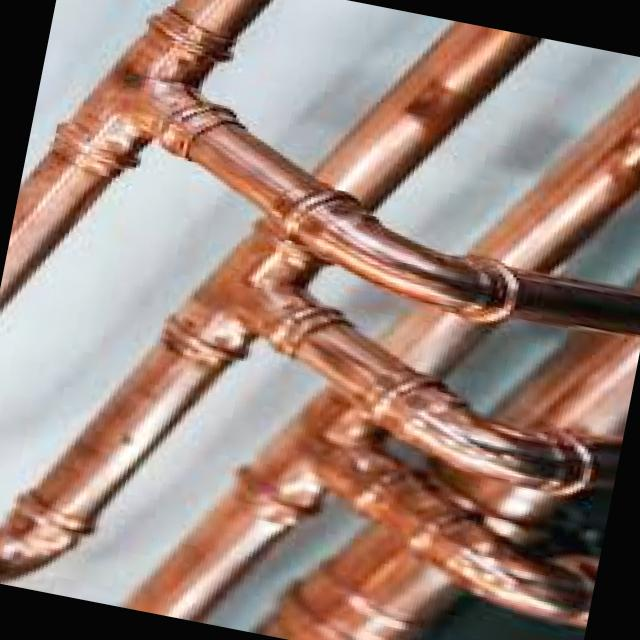gas: (120, 78, 640, 335), (0, 224, 322, 583), (231, 282, 620, 495), (0, 0, 269, 305), (126, 388, 375, 621), (311, 436, 599, 625), (317, 20, 538, 206), (472, 82, 640, 271), (260, 524, 459, 640), (496, 335, 640, 432), (381, 308, 482, 377), (439, 466, 554, 518)
